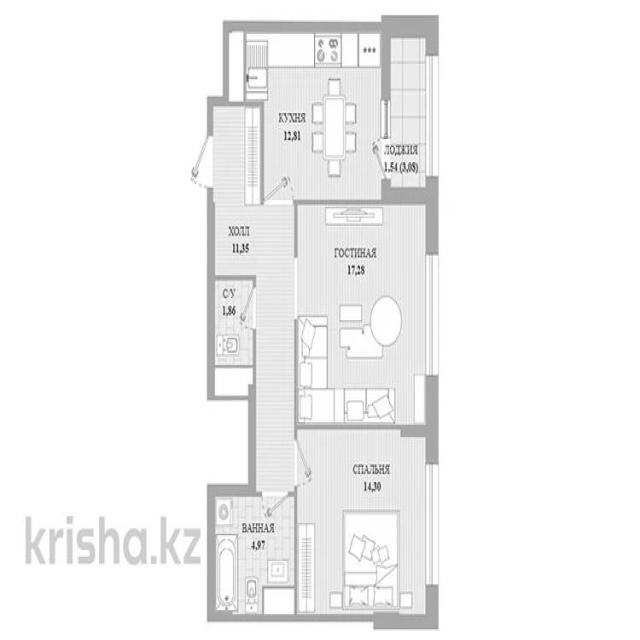balcony: (385, 26, 437, 193)
bathroom: (212, 491, 296, 616), (211, 279, 256, 399)
hallway: (259, 206, 298, 490), (211, 105, 262, 276)
kitchen: (244, 24, 383, 202)
living_room: (301, 205, 437, 428), (298, 432, 441, 620)
